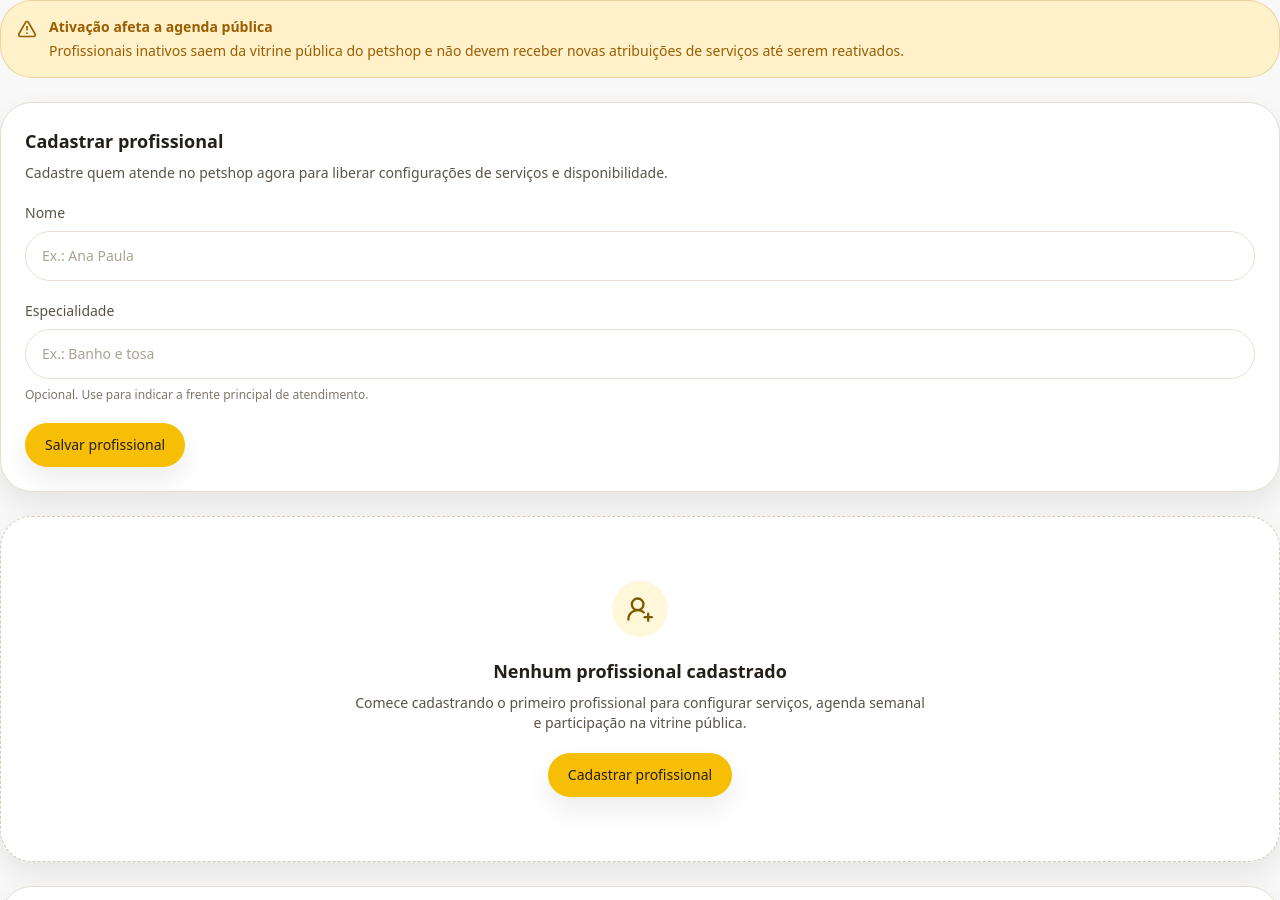
it: ProfessionalsPageClient › shows empty and validation states for professionals setup
Expected: the text "Nenhum profissional cadastrado" is shown, [493,659,787,683]
Click the button "Salvar profissional".
click(105, 445)  # box [25,423,185,467]
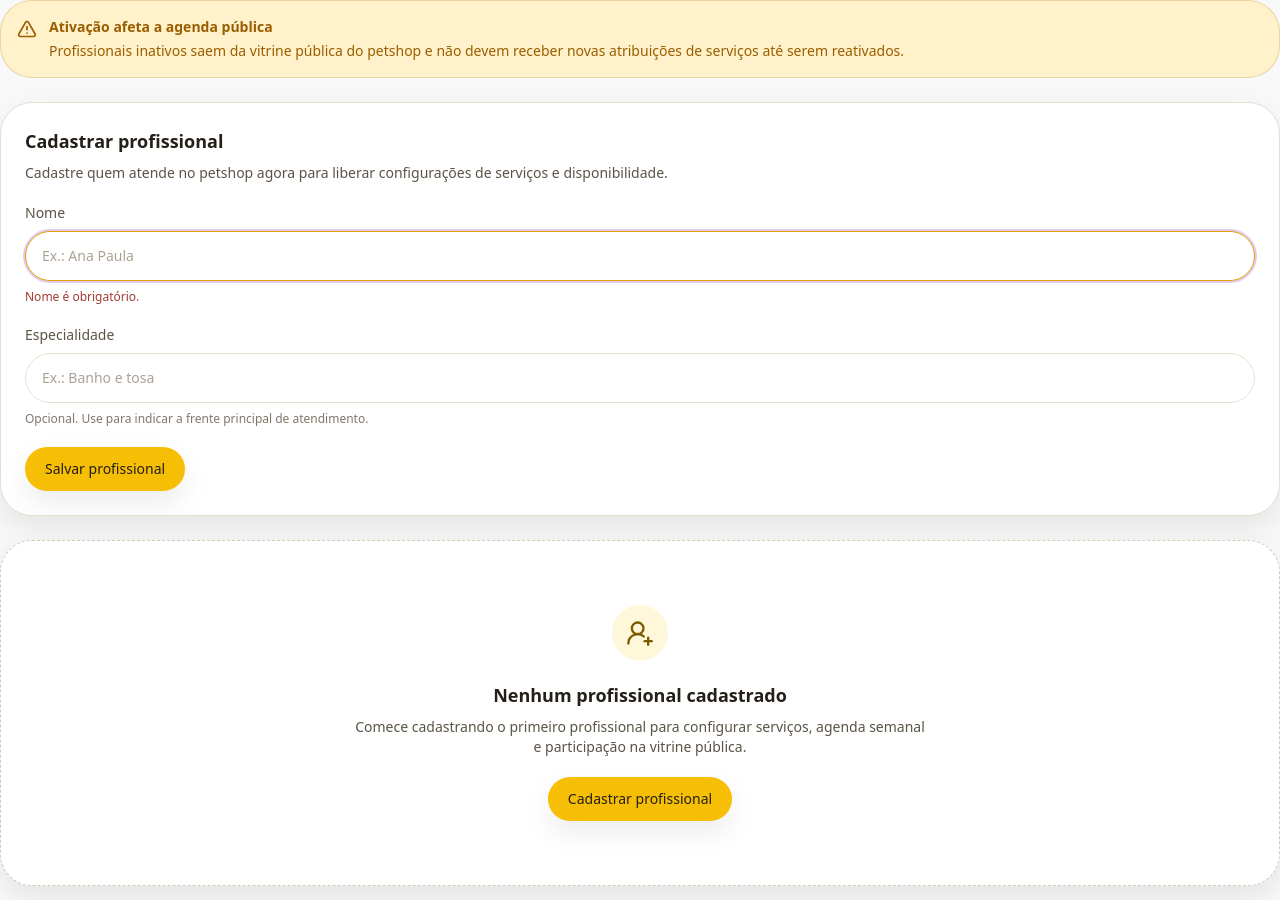
Expected: the text "Nome é obrigatório." is shown, [25,288,139,305]
